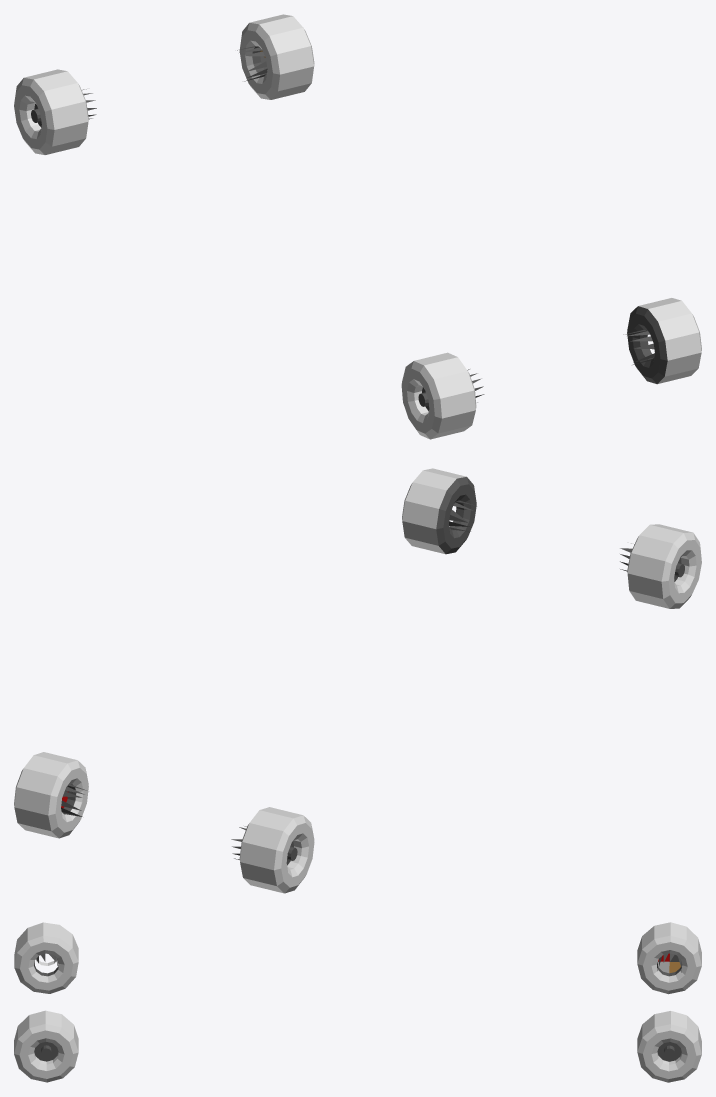
The model's file is white.glb.
3 views of the same model, one above another, from view 1: azimuth 30°, elevation 25°; view 2: azimuth 150°, elevation 25°; view 3: azimuth 270°, elevation 25° (orthographic). The views are drawn at different scales.
Visible parts, largest first — view 1: WheelFR, WheelRR, WheelFL, WheelRL; view 2: WheelFR, WheelRR, WheelFL, WheelRL; view 3: WheelRL, WheelFL, WheelFR, WheelRR.
Boxes of the visible parts, left/top/right/bottom form: WheelFR: left=14, top=69, right=96, bottom=154; WheelRR: left=401, top=352, right=484, bottom=439; WheelFL: left=237, top=14, right=314, bottom=99; WheelRL: left=623, top=298, right=701, bottom=384; WheelFR: left=231, top=807, right=314, bottom=893; WheelRR: left=620, top=524, right=701, bottom=608; WheelFL: left=14, top=752, right=88, bottom=838; WheelRL: left=402, top=468, right=476, bottom=554; WheelRL: left=14, top=1010, right=78, bottom=1082; WheelFL: left=637, top=1011, right=701, bottom=1082; WheelFR: left=637, top=922, right=701, bottom=994; WheelRR: left=14, top=922, right=78, bottom=993.
Bounding box in the file's own units: 3.29 × 0.8599 × 9.13.
1 material, 1 textured.
